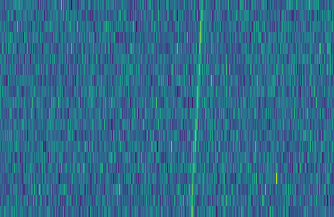signal: (186, 0, 207, 217)
